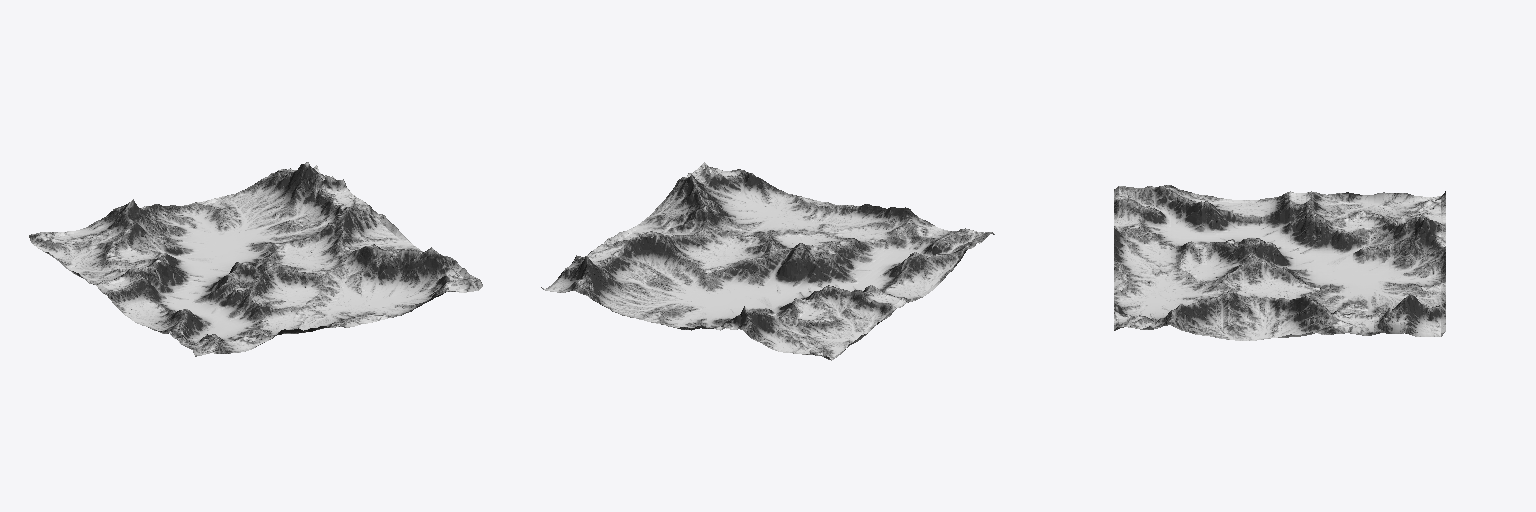
3 views of the same model, side by side, from view 1: azimuth 30°, elevation 25°; view 2: azimuth 150°, elevation 25°; view 3: azimuth 270°, elevation 25° (orthographic).
Parts seen in each view (by area): view 1: Plane_Plane.001; view 2: Plane_Plane.001; view 3: Plane_Plane.001.
Boxes of the visible parts, x1,y1,x2,y2 form: Plane_Plane.001: [29, 162, 482, 356]; Plane_Plane.001: [541, 162, 994, 360]; Plane_Plane.001: [1114, 185, 1445, 340].
Bounding box in the file's own units: 2 × 0.2478 × 2.
1 materials, 1 textured.